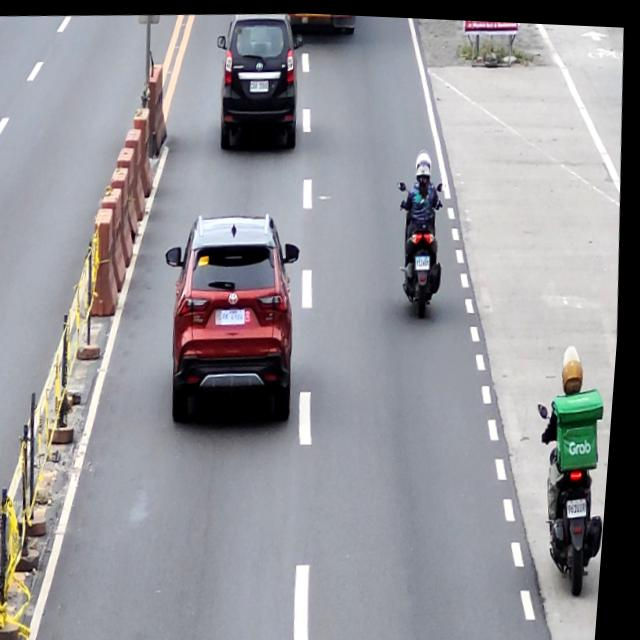Car: (158, 209, 315, 427), (209, 8, 309, 151)
License-Plate: (218, 305, 256, 325), (572, 492, 596, 514), (248, 76, 273, 93), (417, 251, 434, 268)
Motorcycle: (530, 389, 619, 589), (393, 172, 455, 316)
